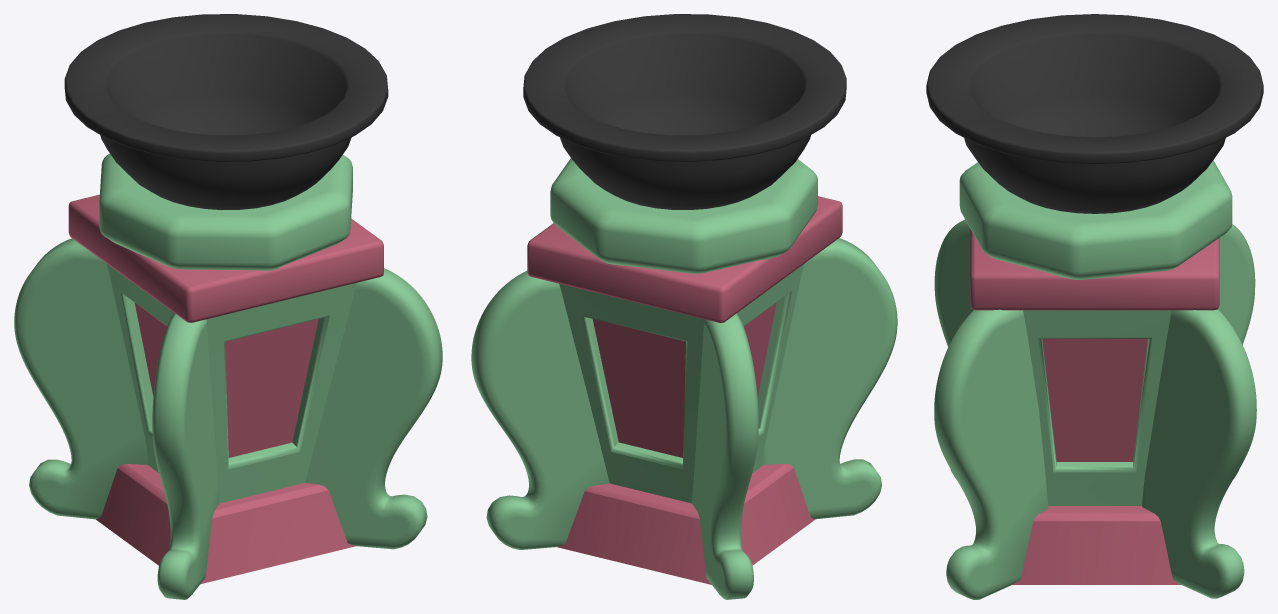
File: Castle_Brazier.FBX
The picture shows the model from 3 angles, left to right: view 1: azimuth 30°, elevation 25°; view 2: azimuth 150°, elevation 25°; view 3: azimuth 270°, elevation 25°; orthographic projection. The views are drawn at different scales.
Visible parts, largest first — view 1: Brazier; view 2: Brazier; view 3: Brazier.
Part boxes in pixels (x1=…): Brazier: x1=14, y1=14, x2=442, y2=599; Brazier: x1=471, y1=14, x2=897, y2=599; Brazier: x1=926, y1=14, x2=1263, y2=599.
Bounding box in the file's own units: 256 × 383 × 255.
